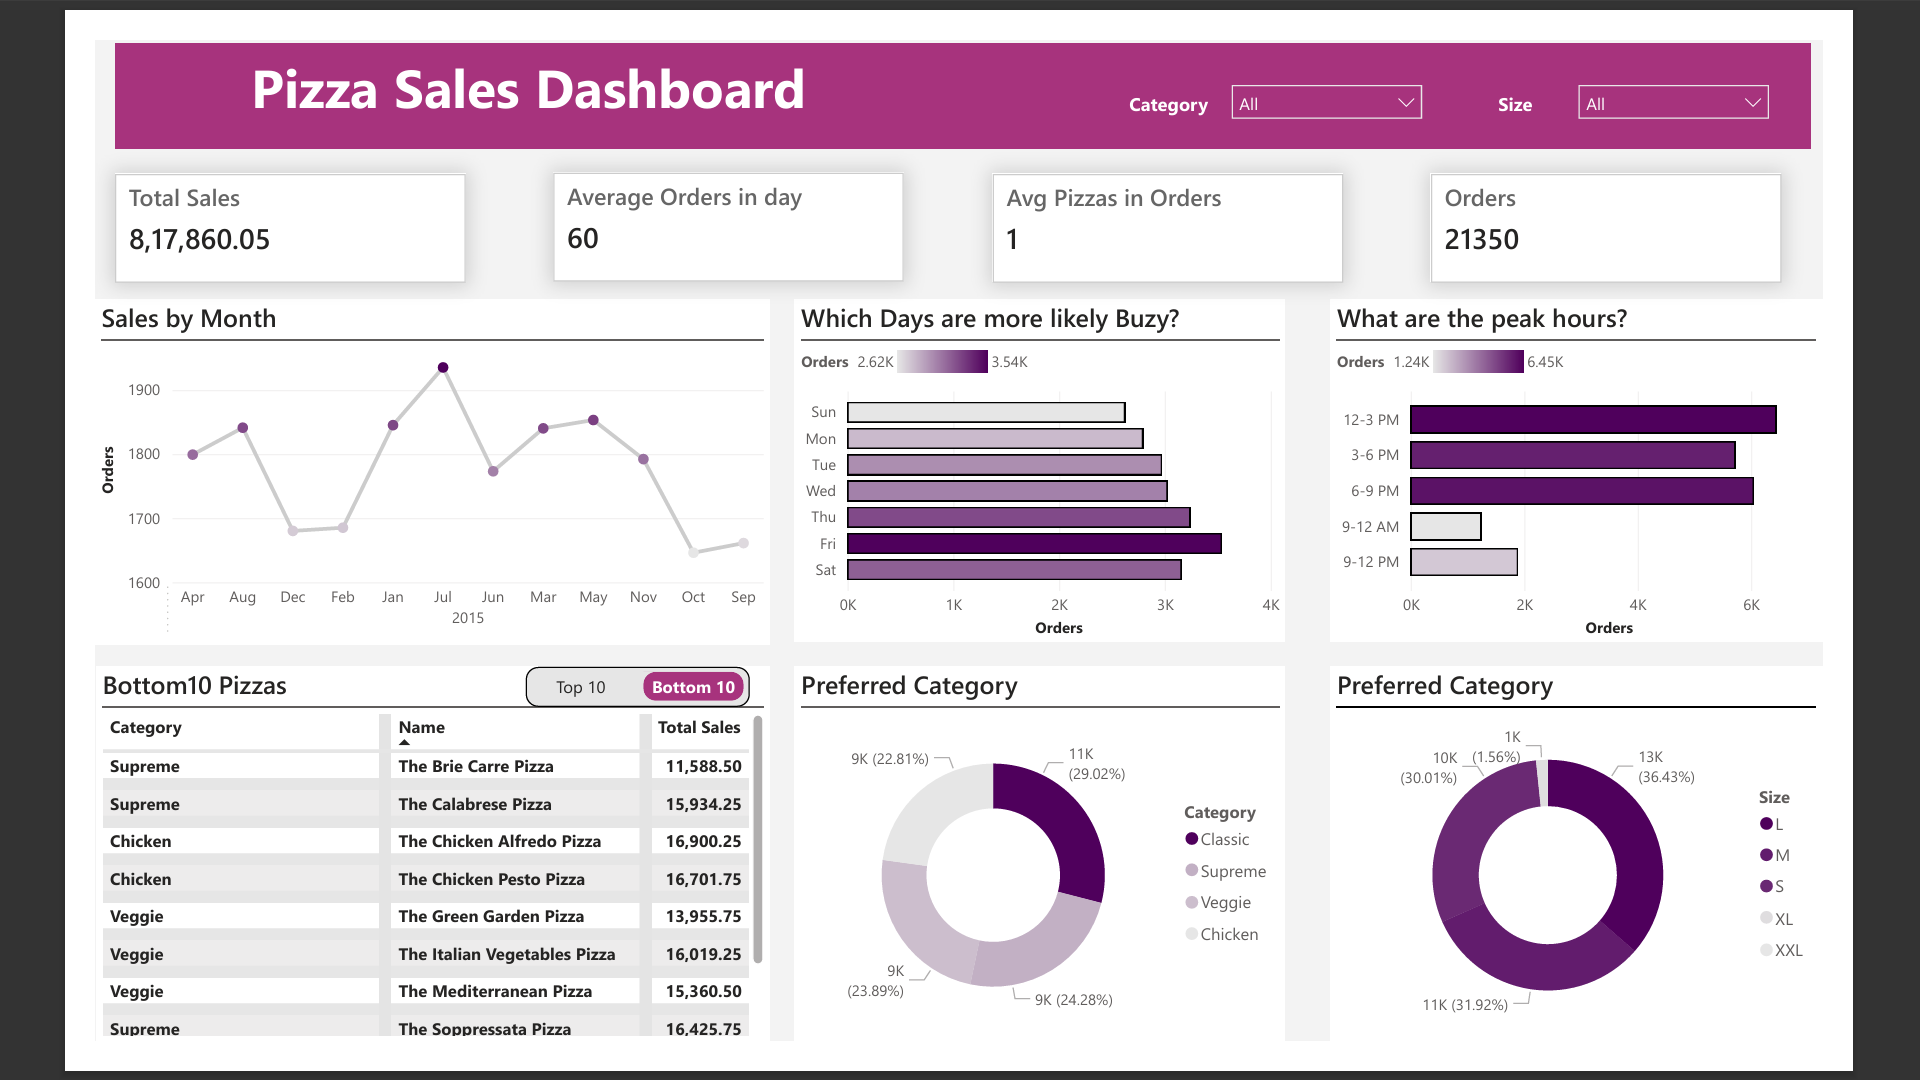

What the dashboard file says about the page in this screenshot:
{"tool":"powerbi","page":{"name":"Page 1","canvas":[1380,800],"ordinal":0},"visuals":[{"type":"textbox","box":[1.7,3.3,1378.3,83.3],"z":0},{"type":"shape","box":[807.1,25.7,101.4,50],"z":0,"group":"g1"},{"type":"shape","box":[1084,26,101.4,50],"z":0,"group":"g3"},{"type":"slicer","fields":{"Values":["Pizza Types.Category"]},"box":[898.5,25.7,171.4,50],"z":1000,"group":"g1"},{"type":"slicer","fields":{"Values":["Pizzas.Size"]},"box":[1175.4,26,171.4,50],"z":1000,"group":"g3"},{"type":"barChart","title":"What are the peak hours?","fields":{"Category":["Orders.Time Slot"],"Y":["All Measures.Orders"]},"box":[987.1,207.1,392.9,274.3],"z":1000},{"type":"barChart","title":"Which Days are more likely  Buzy?","fields":{"Y":["All Measures.Orders"],"Category":["date Table.Day"]},"box":[558.6,207.1,392.9,274.3],"z":2000},{"type":"lineChart","title":"Sales by Month","fields":{"Y":["All Measures.Orders"],"Category":["date Table.Year","date Table.Month"]},"box":[0,207.1,538.6,275.7],"z":3000},{"type":"donutChart","title":"Preferred Category","fields":{"Category":["Pizza Types.Category"],"Y":["All Measures.Orders"]},"box":[558.6,501.4,392.9,298.6],"z":4000},{"type":"donutChart","title":"Preferred Category","fields":{"Category":["Pizzas.Size"],"Y":["All Measures.Orders"]},"box":[987.1,501.4,392.9,298.6],"z":5000},{"type":"tableEx","title":"Bottom10 Pizzas","fields":{"Values":["Pizza Types.Category","Pizza Types.Name","All Measures.Total Sales"]},"box":[1.4,501.4,537.1,298.6],"z":7000},{"type":"bookmarkNavigator","box":[344.3,501.4,178.6,31.4],"z":8000},{"type":"multiRowCard","title":"Total Sales","fields":{"Values":["All Measures.Total Sales"]},"box":[15.7,107.1,280,87.1],"z":9000},{"type":"multiRowCard","title":"Average Orders in day","fields":{"Values":["All Measures.Avg orders in a day"]},"box":[366.2,105.7,280,87.1],"z":10000},{"type":"multiRowCard","title":"Avg Pizzas  in Orders","fields":{"Values":["All Measures.Avg Pizzas in a order"]},"box":[716.7,107.1,280,87.1],"z":11000},{"type":"multiRowCard","title":"Orders","fields":{"Values":["All Measures.Orders"]},"box":[1067.1,107.1,280,87.1],"z":12000},{"type":"group","id":"g1","title":"Category","box":[807.1,25.7,262.9,50],"z":13000},{"type":"group","id":"g2","title":"Category","box":[0,8.6,100,40],"z":14000},{"type":"group","id":"g3","title":"Category","box":[1084,26,263,50],"z":14001}]}

Visuals, with their boxes on the page's 1380x800 design canvas (x1, y1, x2, y2). These are canvas units, not pixel positions in the 1920x1080 screenshot, which may show the page scaled, cropped or inside an application window:
textbox: (x1=2, y1=3, x2=1380, y2=87)
shape: (x1=807, y1=26, x2=908, y2=76)
shape: (x1=1084, y1=26, x2=1185, y2=76)
slicer - Pizza Types.Category: (x1=898, y1=26, x2=1070, y2=76)
slicer - Pizzas.Size: (x1=1175, y1=26, x2=1347, y2=76)
"What are the peak hours?" barChart: (x1=987, y1=207, x2=1380, y2=481)
"Which Days are more likely  Buzy?" barChart: (x1=559, y1=207, x2=952, y2=481)
"Sales by Month" lineChart: (x1=0, y1=207, x2=539, y2=483)
"Preferred Category" donutChart: (x1=559, y1=501, x2=952, y2=800)
"Preferred Category" donutChart: (x1=987, y1=501, x2=1380, y2=800)
"Bottom10 Pizzas" tableEx: (x1=1, y1=501, x2=538, y2=800)
bookmarkNavigator: (x1=344, y1=501, x2=523, y2=533)
"Total Sales" multiRowCard: (x1=16, y1=107, x2=296, y2=194)
"Average Orders in day" multiRowCard: (x1=366, y1=106, x2=646, y2=193)
"Avg Pizzas  in Orders" multiRowCard: (x1=717, y1=107, x2=997, y2=194)
"Orders" multiRowCard: (x1=1067, y1=107, x2=1347, y2=194)
"Category" group: (x1=807, y1=26, x2=1070, y2=76)
"Category" group: (x1=0, y1=9, x2=100, y2=49)
"Category" group: (x1=1084, y1=26, x2=1347, y2=76)
